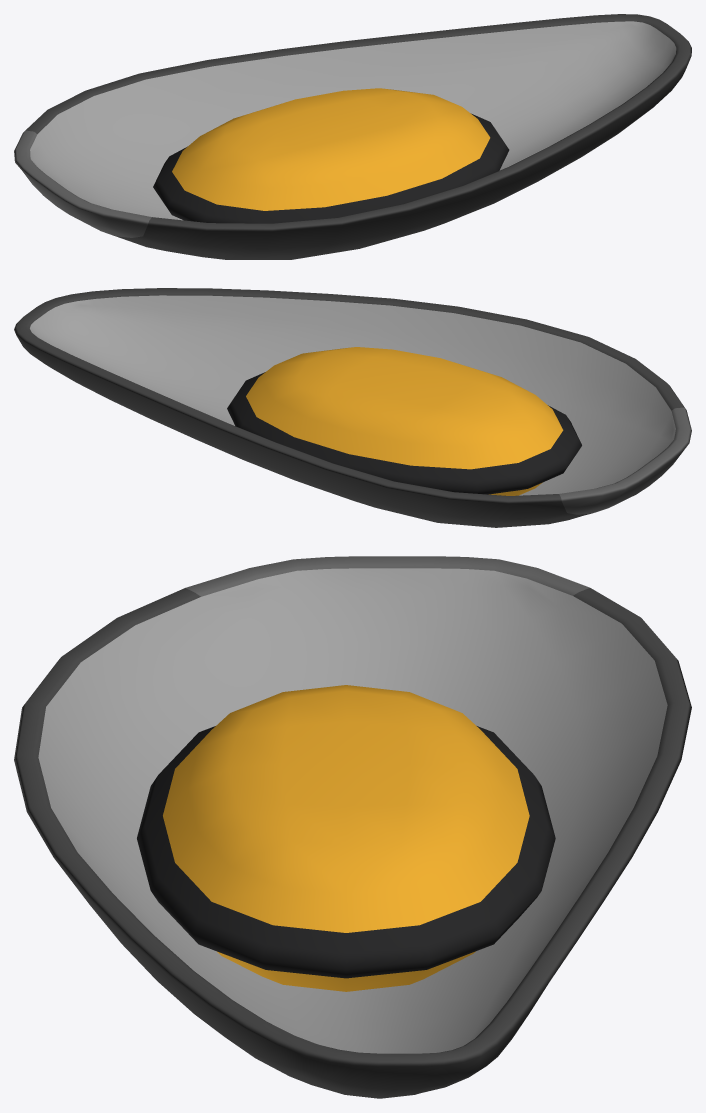
Rendered from Mussel_Open_2.fbx.
The picture shows the model from 3 angles, top to bottom: view 1: azimuth 30°, elevation 25°; view 2: azimuth 150°, elevation 25°; view 3: azimuth 270°, elevation 25°; orthographic projection. The views are drawn at different scales.
Parts seen in each view (by area): view 1: Mussel_Open_2; view 2: Mussel_Open_2; view 3: Mussel_Open_2.
Boxes of the visible parts, x1,y1,x2,y2 form: Mussel_Open_2: (14,14,691,259); Mussel_Open_2: (14,288,691,527); Mussel_Open_2: (14,556,691,1098).
Size of the model in its own units: 8.64 by 1.42 by 4.88.
